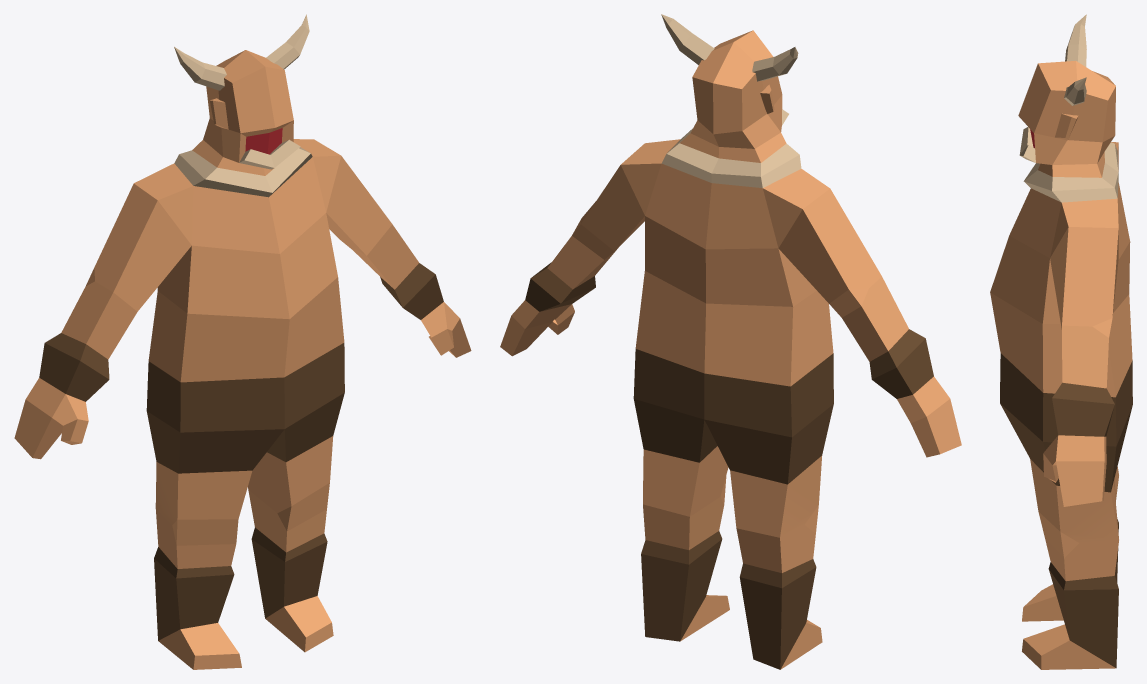
The model's file is people_giant.fbx.
3 views of the same model, side by side, from view 1: azimuth 30°, elevation 25°; view 2: azimuth 150°, elevation 25°; view 3: azimuth 270°, elevation 25° (orthographic). The views are drawn at different scales.
Visible parts, largest first — view 1: people_giant; view 2: people_giant; view 3: people_giant.
Boxes of the visible parts, x1,y1,x2,y2 form: people_giant: (14,14,471,669); people_giant: (500,14,961,669); people_giant: (990,14,1132,669).
Size of the model in its own units: 152 by 200 by 43.77.
